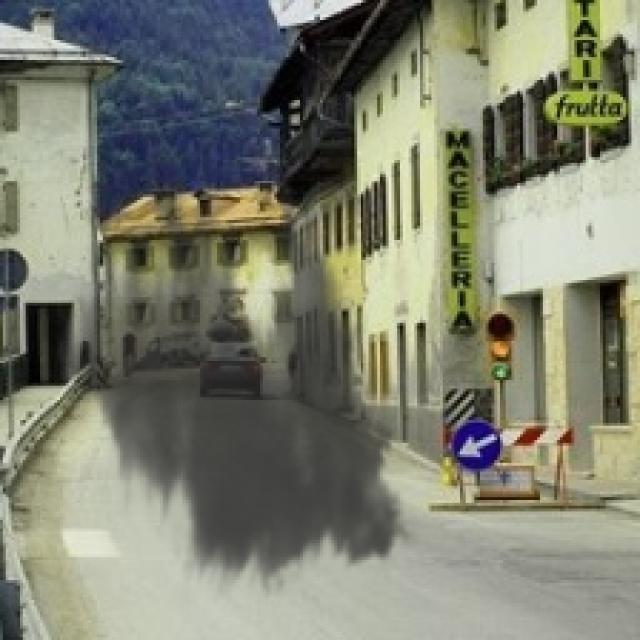Smoke: (57, 180, 420, 603)
